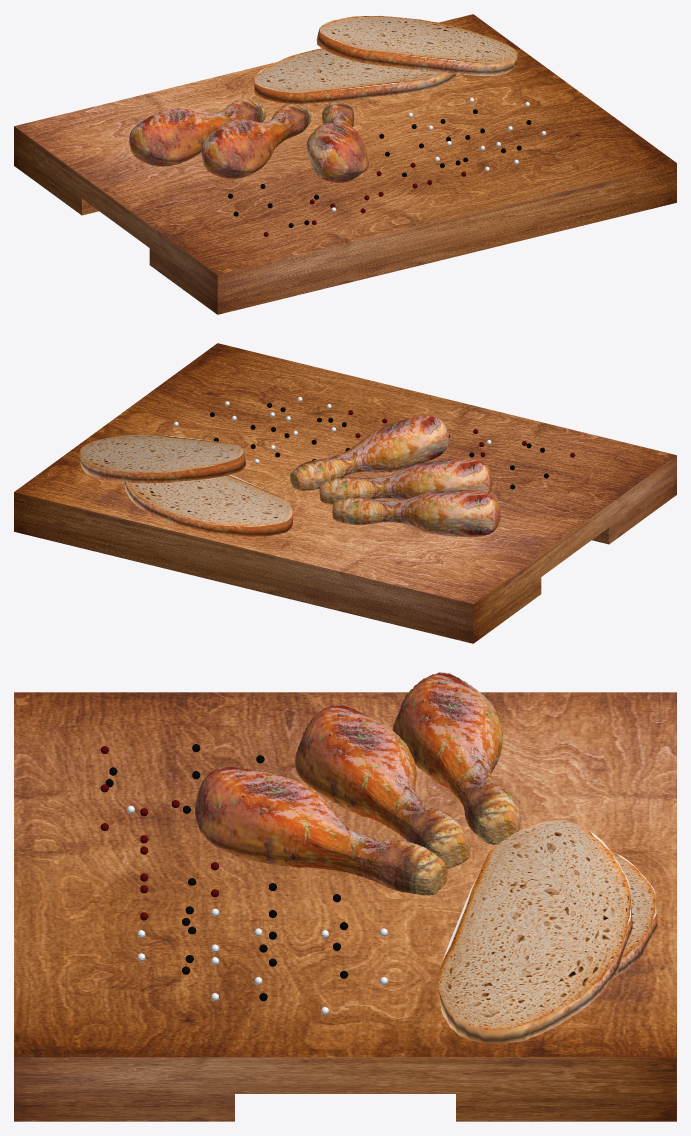
Rendered from Chicken Meat Set.fbx.
The picture shows the model from 3 angles, top to bottom: view 1: azimuth 30°, elevation 25°; view 2: azimuth 150°, elevation 25°; view 3: azimuth 270°, elevation 25°; orthographic projection. The views are drawn at different scales.
Visible parts, largest first — view 1: Cube.001, Cylinder.001, Cylinder, Cube, Cube.002, Cube.003; view 2: Cube.001, Cylinder, Cylinder.001, Cube, Cube.003, Cube.002; view 3: Cube.001, Cylinder.001, Cube.003, Cube.002, Cube, Cylinder.
Part boxes in pixels (x1,y1,x2,y2): Cube.001: [14, 14, 676, 314]; Cylinder.001: [316, 15, 517, 75]; Cylinder: [254, 48, 456, 104]; Cube: [129, 99, 266, 166]; Cube.002: [201, 104, 311, 178]; Cube.003: [306, 101, 368, 182]; Cube.001: [14, 343, 676, 643]; Cylinder: [124, 475, 292, 536]; Cylinder.001: [79, 434, 245, 483]; Cube: [332, 489, 500, 537]; Cube.003: [290, 415, 449, 490]; Cube.002: [319, 457, 492, 504]; Cube.001: [14, 692, 676, 1121]; Cylinder.001: [438, 819, 632, 1043]; Cube.003: [195, 767, 447, 895]; Cube.002: [295, 704, 470, 868]; Cube: [392, 672, 520, 844]; Cylinder: [610, 850, 657, 978].
Bounding box in the file's own units: 447 × 87 × 343.
